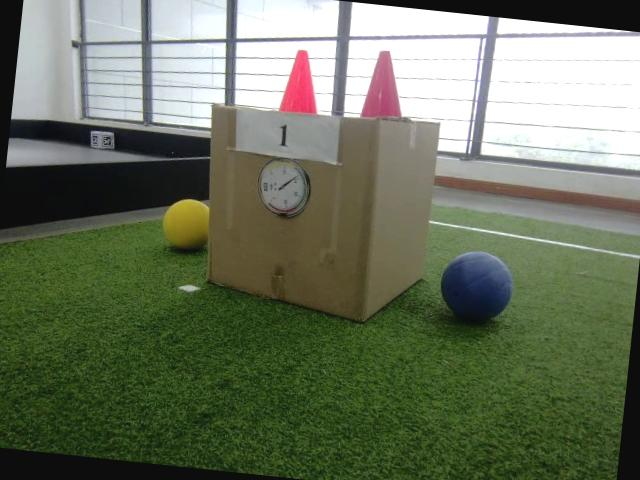1: (278, 124, 290, 147)
Dashboard: (254, 156, 314, 220)
blue_ball: (438, 248, 516, 326)
orange_barrel: (278, 48, 325, 116)
red_barrel: (360, 48, 409, 121)
ssi: (262, 182, 268, 192)
yellow_ball: (158, 196, 212, 253)
